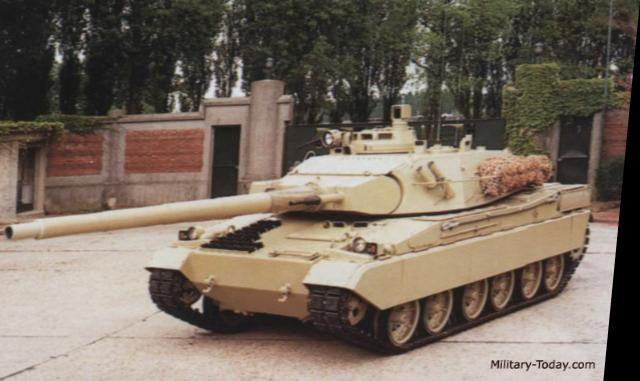tank: (150, 125, 615, 340)
